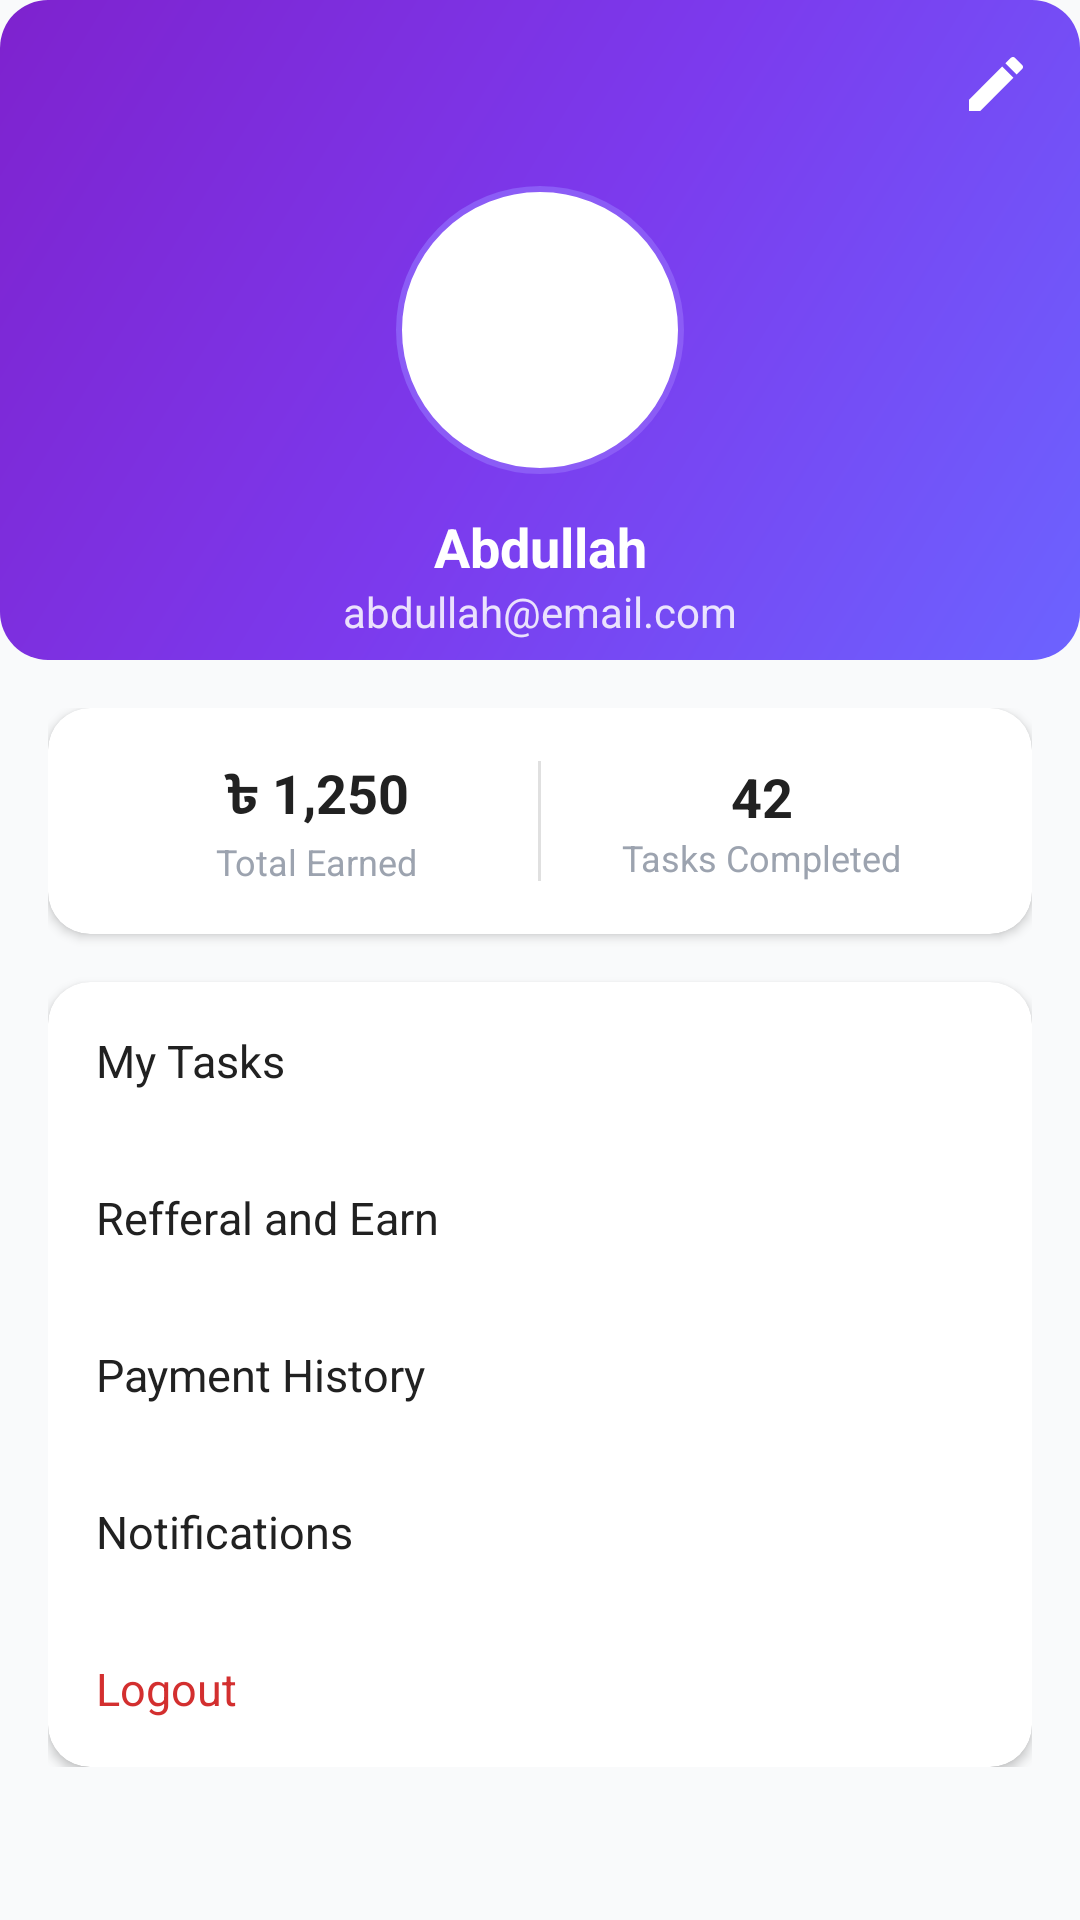

Point at icon controls on the screen. Image size 1080px×1920px, points as (x=x, y=y).
Edit Profile: (x=996, y=84)
